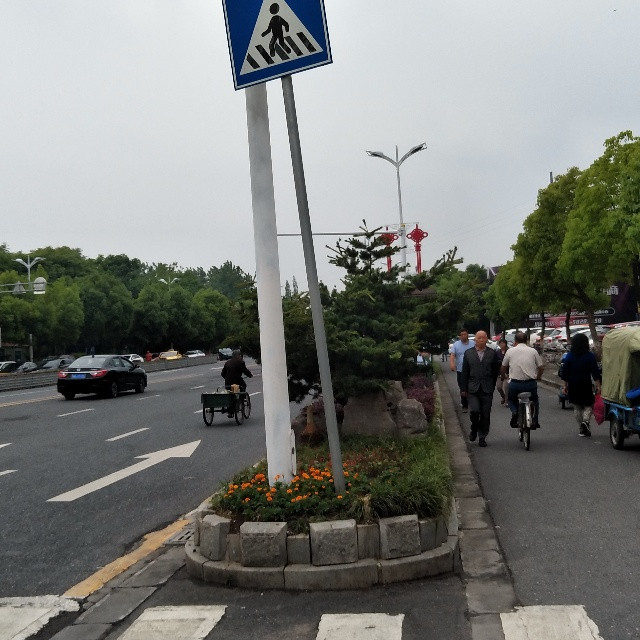crosswalk: (234, 5, 330, 73)
